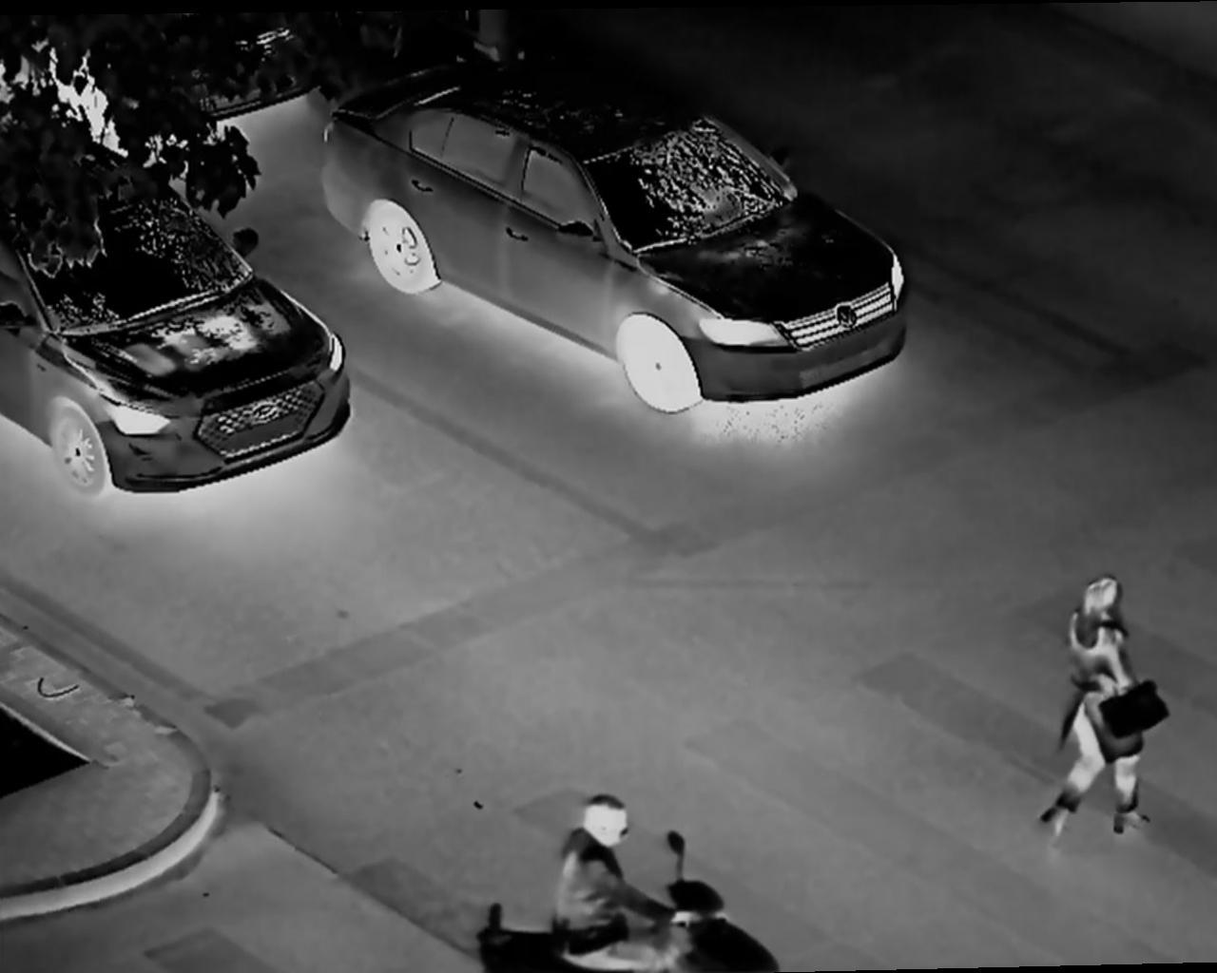person: (1040, 570, 1169, 843), (541, 795, 671, 965)
